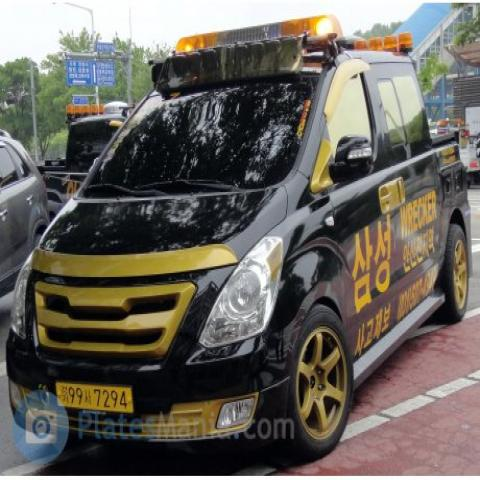LP: (50, 373, 140, 416)
